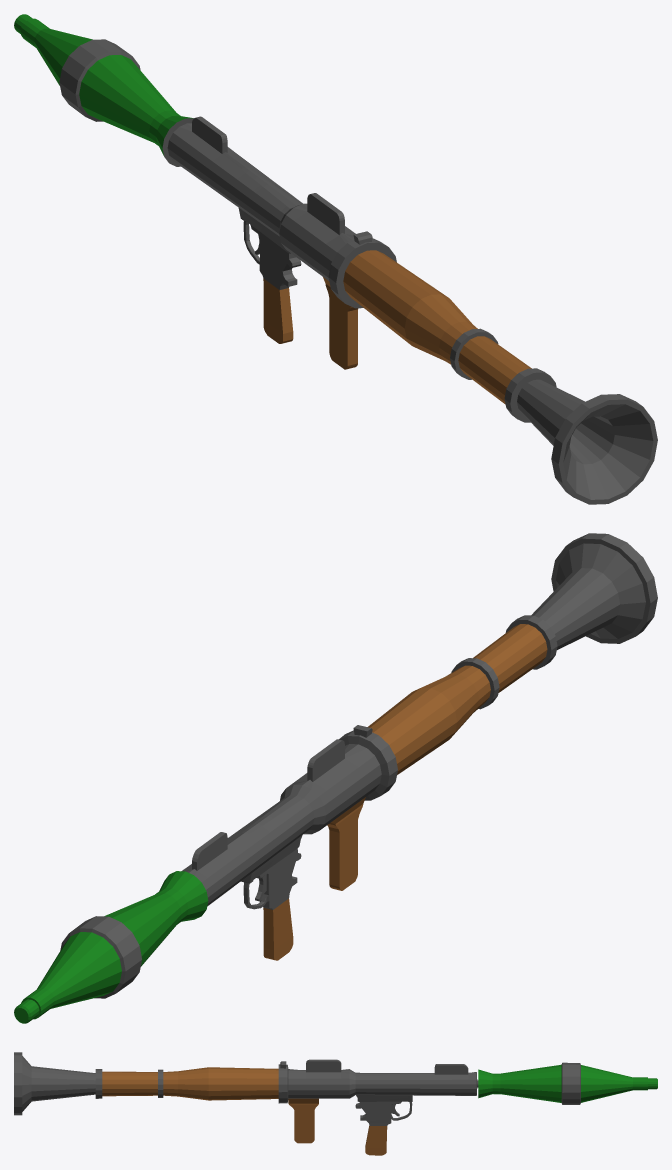
The model's file is Bazooka loaded.fbx.
3 views of the same model, one above another, from view 1: azimuth 30°, elevation 25°; view 2: azimuth 150°, elevation 25°; view 3: azimuth 270°, elevation 25° (orthographic). The views are drawn at different scales.
Visible parts, largest first — view 1: Cylinder; view 2: Cylinder; view 3: Cylinder.
Boxes of the visible parts, x1,y1,x2,y2 form: Cylinder: [14, 14, 657, 504]; Cylinder: [14, 533, 657, 1023]; Cylinder: [14, 1052, 657, 1155].
Size of the model in its own units: 92.4 by 160 by 946.
